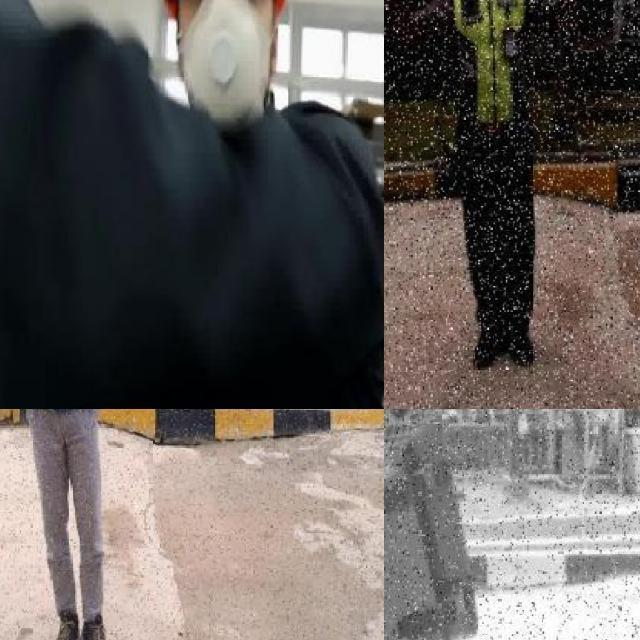apron: (384, 409, 550, 497)
